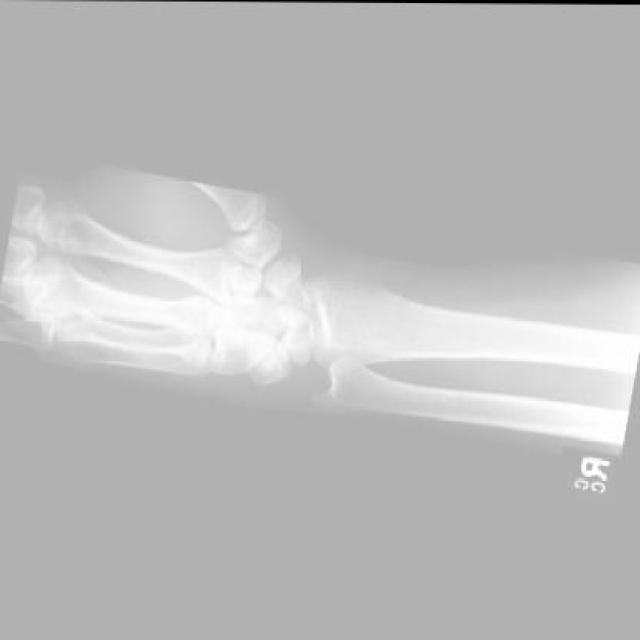Fracture: (273, 263, 310, 314)
